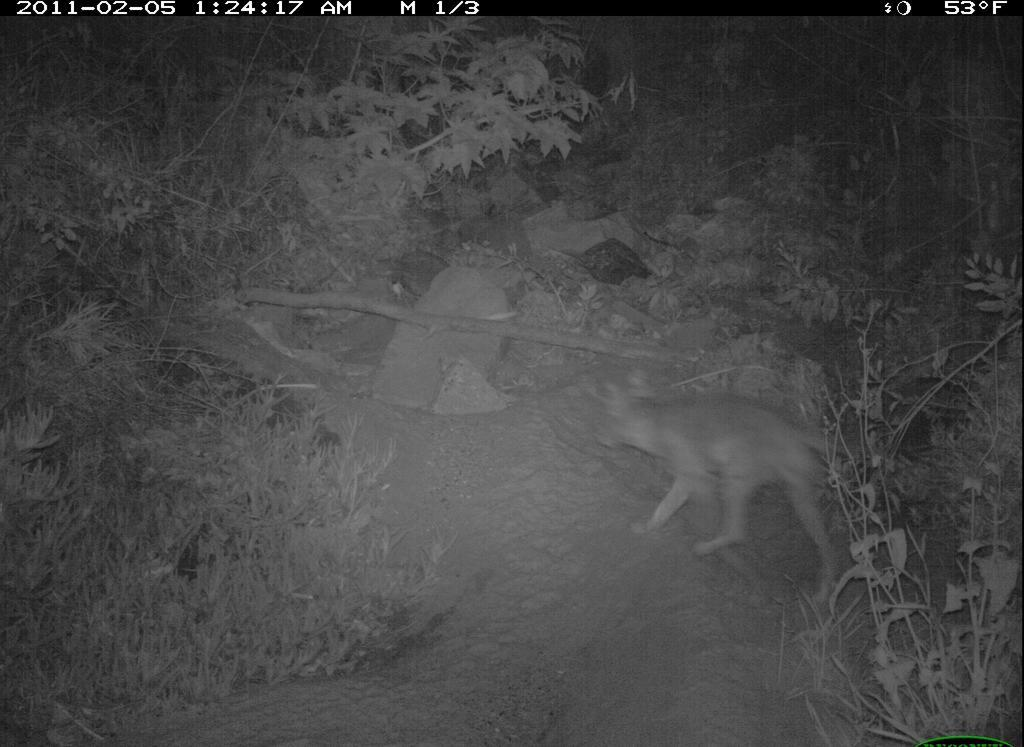coyote: (589, 367, 858, 603)
